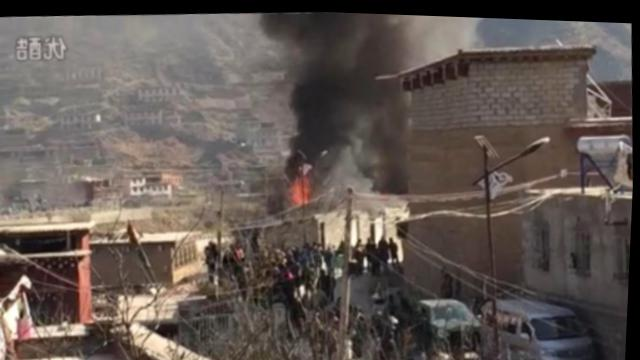fire: (292, 172, 313, 203)
